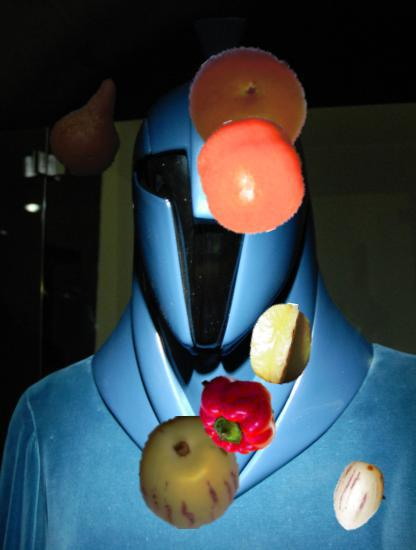Carambula: (240, 302, 323, 385)
Clementine: (193, 116, 311, 234)
Pear: (40, 74, 145, 179)
Pepino: (131, 416, 244, 529), (324, 460, 397, 533)
Pepper: (193, 368, 283, 458)
Tangelo: (187, 44, 309, 166)
